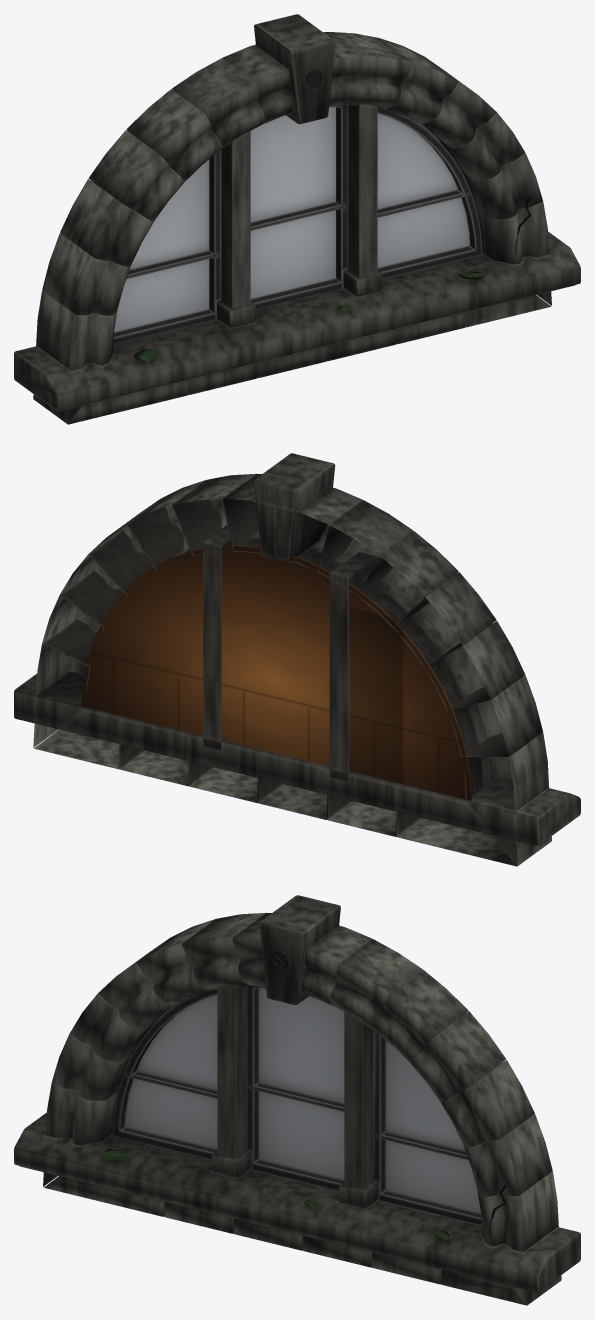
File: HalfRoundWindow.fbx
The picture shows the model from 3 angles, top to bottom: view 1: azimuth 30°, elevation 25°; view 2: azimuth 150°, elevation 25°; view 3: azimuth 330°, elevation 25°; orthographic projection.
Visible parts, largest first — view 1: HalfRoundWindow_Main, HalfRoundWindow_Glass; view 2: HalfRoundWindow_Main, HalfRoundWindow_Room; view 3: HalfRoundWindow_Main, HalfRoundWindow_Glass.
Part boxes in pixels (x1,y1,x2,y2): HalfRoundWindow_Main: [14, 14, 580, 424]; HalfRoundWindow_Glass: [114, 107, 469, 332]; HalfRoundWindow_Main: [14, 453, 580, 866]; HalfRoundWindow_Room: [81, 545, 471, 800]; HalfRoundWindow_Main: [14, 895, 580, 1305]; HalfRoundWindow_Glass: [125, 988, 480, 1213].
Size of the model in its own units: 690 by 405 by 100.
